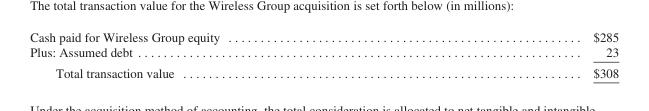table: (29, 29, 618, 79)
table column: (29, 29, 405, 79), (405, 29, 618, 79)
table row: (29, 44, 618, 62), (29, 62, 618, 79), (29, 29, 618, 44)
